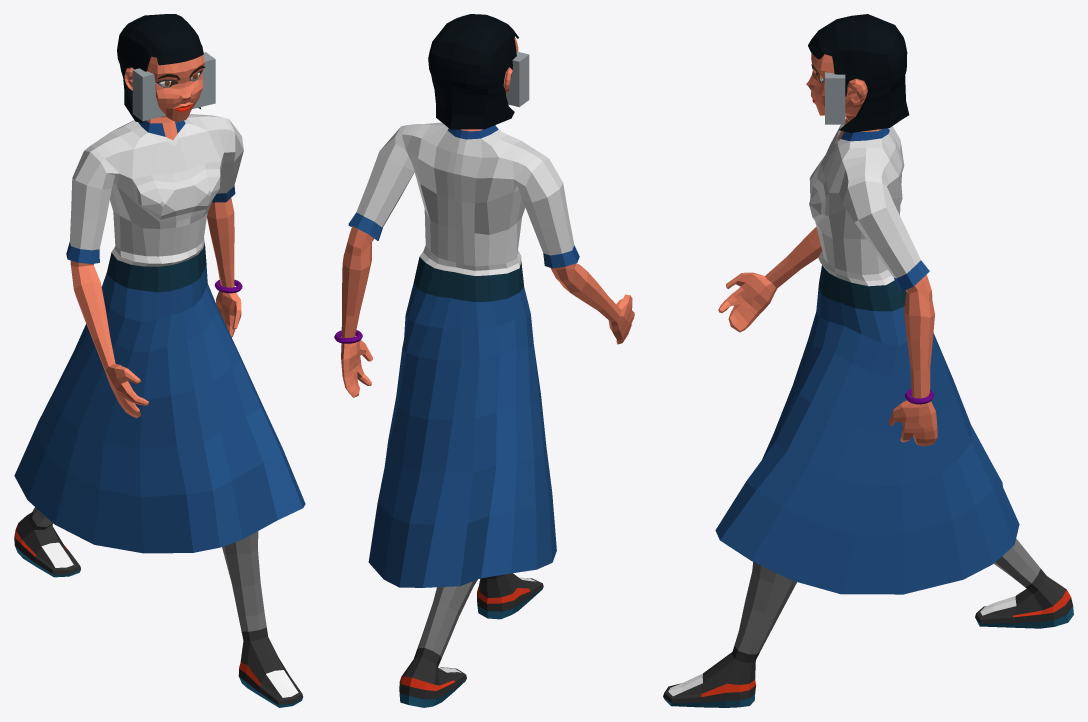
File: StudentFemale_Walk_Mask.fbx
3 views of the same model, side by side, from view 1: azimuth 30°, elevation 25°; view 2: azimuth 150°, elevation 25°; view 3: azimuth 270°, elevation 25° (orthographic). The views are drawn at different scales.
Parts seen in each view (by area): view 1: StudentFemale_Walk_Mask; view 2: StudentFemale_Walk_Mask; view 3: StudentFemale_Walk_Mask.
Part boxes in pixels (box(x1,y1,x2,y2)): StudentFemale_Walk_Mask: box(14, 14, 305, 707); StudentFemale_Walk_Mask: box(334, 14, 634, 707); StudentFemale_Walk_Mask: box(663, 14, 1073, 707).
Size of the model in its own units: 0.2686 by 0.7832 by 0.4406.
